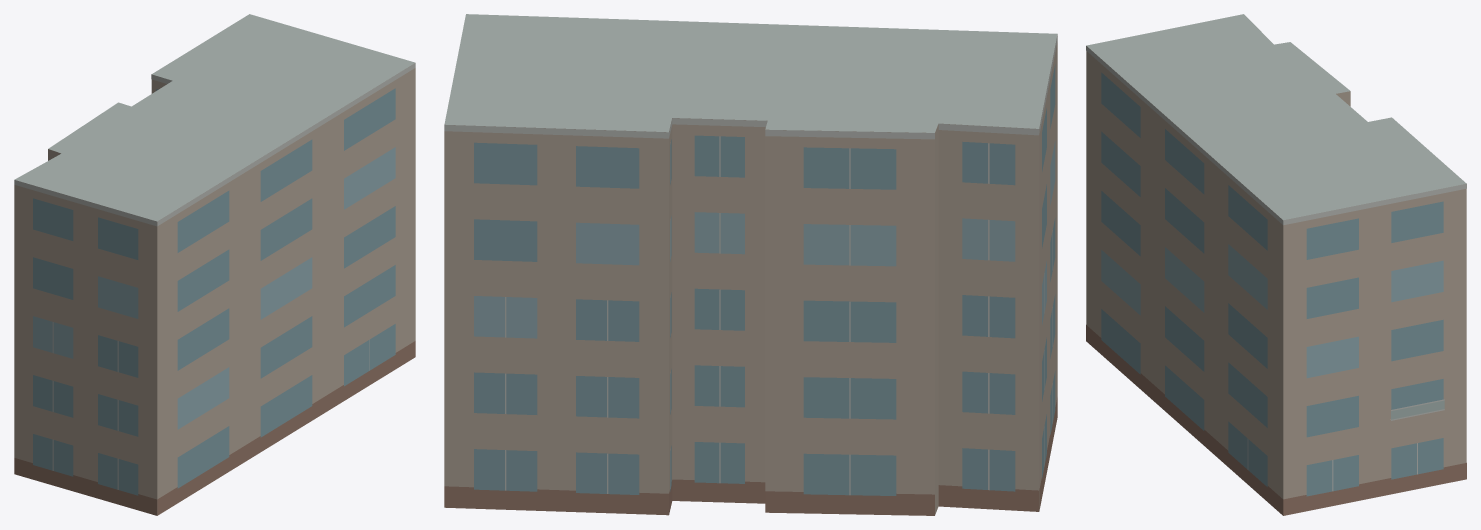
The model's file is survey-upis-32929473.glb.
3 views of the same model, side by side, from view 1: azimuth 30°, elevation 25°; view 2: azimuth 150°, elevation 25°; view 3: azimuth 270°, elevation 25° (orthographic). The views are drawn at different scales.
Parts seen in each view (by area): view 1: survey-upis-32929473.tmp; view 2: survey-upis-32929473.tmp; view 3: survey-upis-32929473.tmp.
Part boxes in pixels (bbox=[...]): survey-upis-32929473.tmp: bbox=[14, 14, 415, 515]; survey-upis-32929473.tmp: bbox=[444, 14, 1057, 515]; survey-upis-32929473.tmp: bbox=[1086, 14, 1466, 515].
Size of the model in its own units: 21.64 by 14.45 by 16.87.
